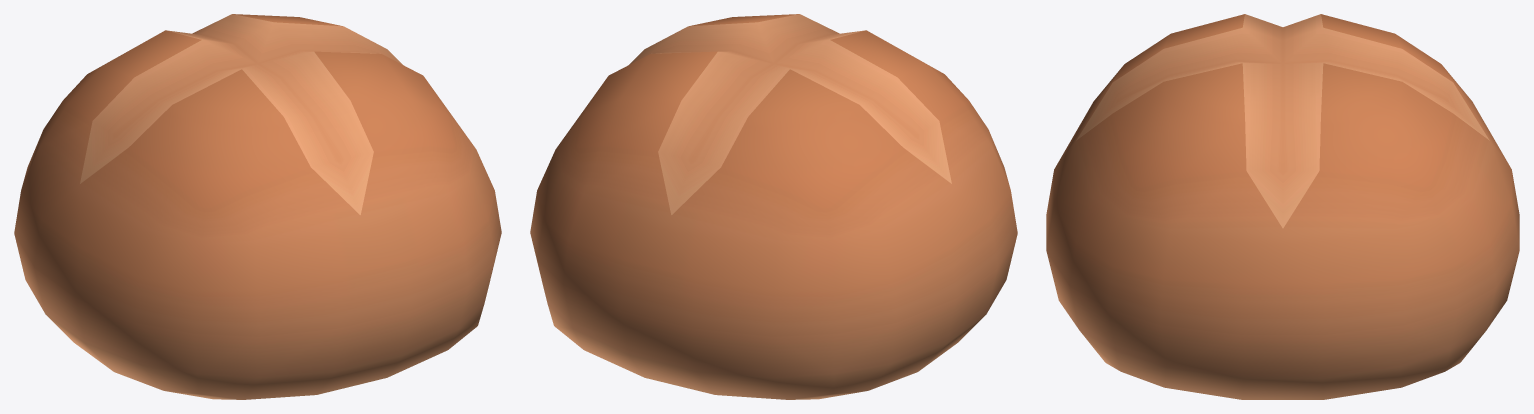
The model's file is BreadRoll-transformed.glb.
3 views of the same model, side by side, from view 1: azimuth 30°, elevation 25°; view 2: azimuth 150°, elevation 25°; view 3: azimuth 270°, elevation 25° (orthographic).
Parts seen in each view (by area): view 1: bread_roll; view 2: bread_roll; view 3: bread_roll.
Boxes of the visible parts, x1,y1,x2,y2 form: bread_roll: [14, 14, 501, 399]; bread_roll: [530, 14, 1017, 399]; bread_roll: [1046, 14, 1519, 399].
Bounding box in the file's own units: 0.4196 × 0.2997 × 0.4196.
Materials: 1 (1 with a texture image).
